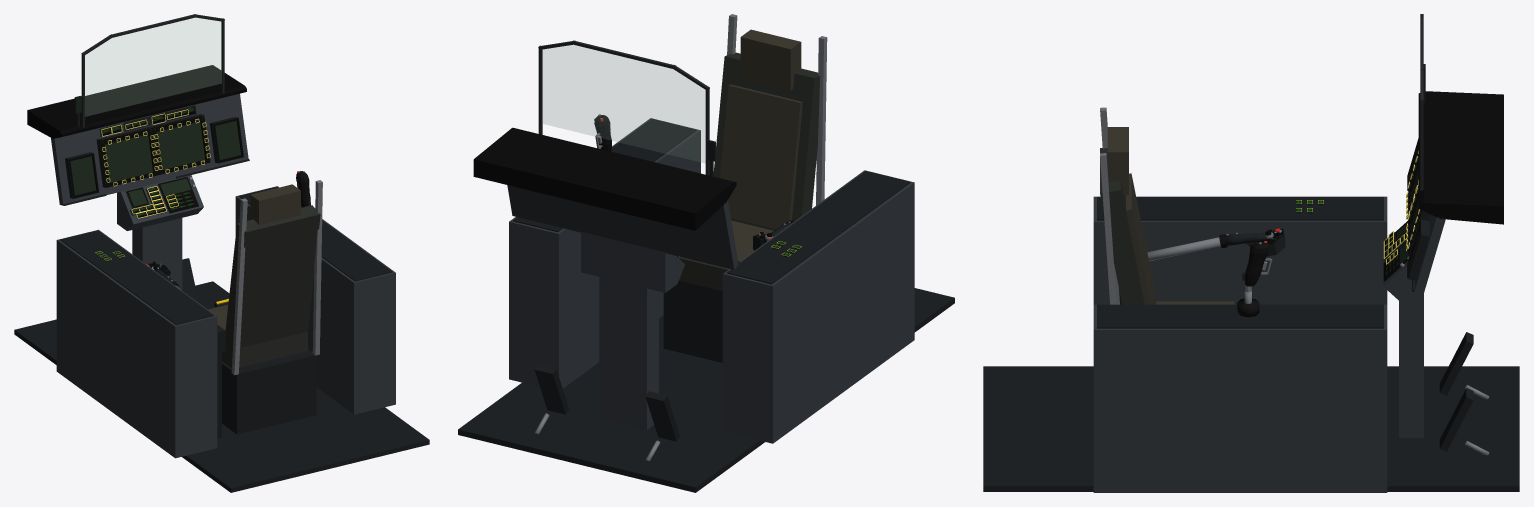
The model's file is cockpit_rah66.glb.
The picture shows the model from 3 angles, left to right: view 1: azimuth 30°, elevation 25°; view 2: azimuth 150°, elevation 25°; view 3: azimuth 270°, elevation 25°; orthographic projection. The views are drawn at different scales.
Parts seen in each view (by area): view 1: panel_grey.003, dark.094, panel_grey.004, hud_glass_69, seat_95, black, dark.097, panel_grey, dark.092, panel_grey.002, dark.093, screen_left (+9 smaller); view 2: panel_grey.003, dark.094, panel_grey.004, black, hud_glass_69, cushion_96, panel_grey.002, panel_grey, dark.092, seat_95, dark.097, panel_grey.001 (+7 smaller); view 3: panel_grey.004, dark.094, panel_grey.003, black, dark.093, dark.092, panel_grey.002, seat_95, cushion_96, cushion_97, metal_99, panel_grey (+5 smaller).
Part boxes in pixels (x1=…): panel_grey.003: x1=56, y1=229, x2=217, y2=458; dark.094: x1=14, y1=281, x2=429, y2=492; panel_grey.004: x1=235, y1=186, x2=395, y2=414; hud_glass_69: x1=85, y1=18, x2=221, y2=116; seat_95: x1=225, y1=205, x2=320, y2=349; black: x1=27, y1=65, x2=246, y2=138; dark.097: x1=222, y1=349, x2=316, y2=434; panel_grey: x1=51, y1=93, x2=248, y2=205; dark.092: x1=60, y1=230, x2=213, y2=325; panel_grey.002: x1=132, y1=218, x2=182, y2=290; dark.093: x1=239, y1=186, x2=392, y2=281; screen_left: x1=104, y1=134, x2=152, y2=182; panel_grey.003: x1=722, y1=170, x2=914, y2=443; dark.094: x1=458, y1=288, x2=954, y2=492; panel_grey.004: x1=509, y1=118, x2=700, y2=388; black: x1=473, y1=127, x2=736, y2=230; hud_glass_69: x1=542, y1=45, x2=705, y2=162; cushion_96: x1=720, y1=84, x2=802, y2=228; panel_grey.002: x1=599, y1=276, x2=658, y2=430; panel_grey: x1=507, y1=185, x2=738, y2=269; dark.092: x1=727, y1=171, x2=910, y2=284; seat_95: x1=713, y1=52, x2=820, y2=230; dark.097: x1=663, y1=280, x2=722, y2=362; panel_grey.001: x1=581, y1=232, x2=684, y2=292; panel_grey.004: x1=1093, y1=304, x2=1387, y2=492; dark.094: x1=983, y1=366, x2=1519, y2=491; panel_grey.003: x1=1093, y1=196, x2=1387, y2=304; black: x1=1418, y1=91, x2=1503, y2=224; dark.093: x1=1097, y1=304, x2=1383, y2=328; dark.092: x1=1097, y1=196, x2=1383, y2=220; panel_grey.002: x1=1399, y1=300, x2=1423, y2=438; seat_95: x1=1100, y1=147, x2=1144, y2=304; cushion_96: x1=1126, y1=173, x2=1156, y2=304; cushion_97: x1=1107, y1=127, x2=1128, y2=194; metal_99: x1=1100, y1=153, x2=1116, y2=304; panel_grey: x1=1414, y1=214, x2=1445, y2=294.
Size of the model in its own units: 1 by 1.36 by 1.7.
Materials: 29 (6 with a texture image).
